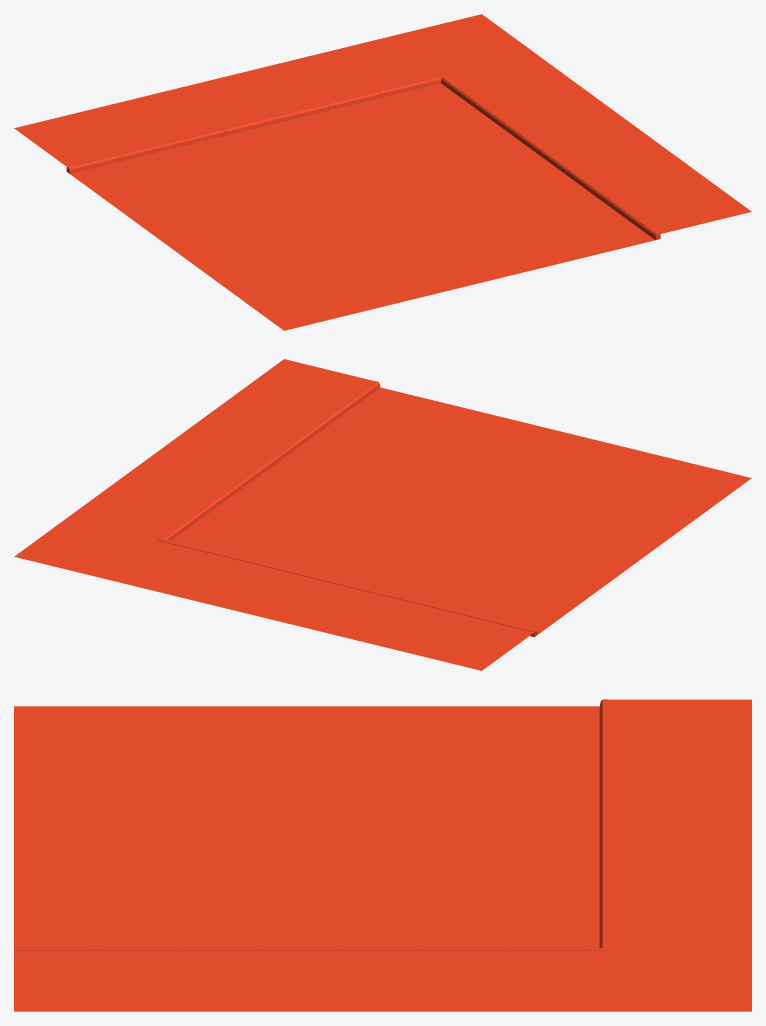
Rendered from SM_Road_Parking_Corner_10x10_City.fbx.
3 views of the same model, one above another, from view 1: azimuth 30°, elevation 25°; view 2: azimuth 150°, elevation 25°; view 3: azimuth 270°, elevation 25° (orthographic). The views are drawn at different scales.
Visible parts, largest first — view 1: SM_Road_Parking_Corner_10x10_City; view 2: SM_Road_Parking_Corner_10x10_City; view 3: SM_Road_Parking_Corner_10x10_City.
Boxes of the visible parts, x1,y1,x2,y2 form: SM_Road_Parking_Corner_10x10_City: [14, 14, 751, 330]; SM_Road_Parking_Corner_10x10_City: [14, 359, 751, 670]; SM_Road_Parking_Corner_10x10_City: [14, 699, 751, 1011].
Size of the model in its own units: 10 by 0.1084 by 10.
